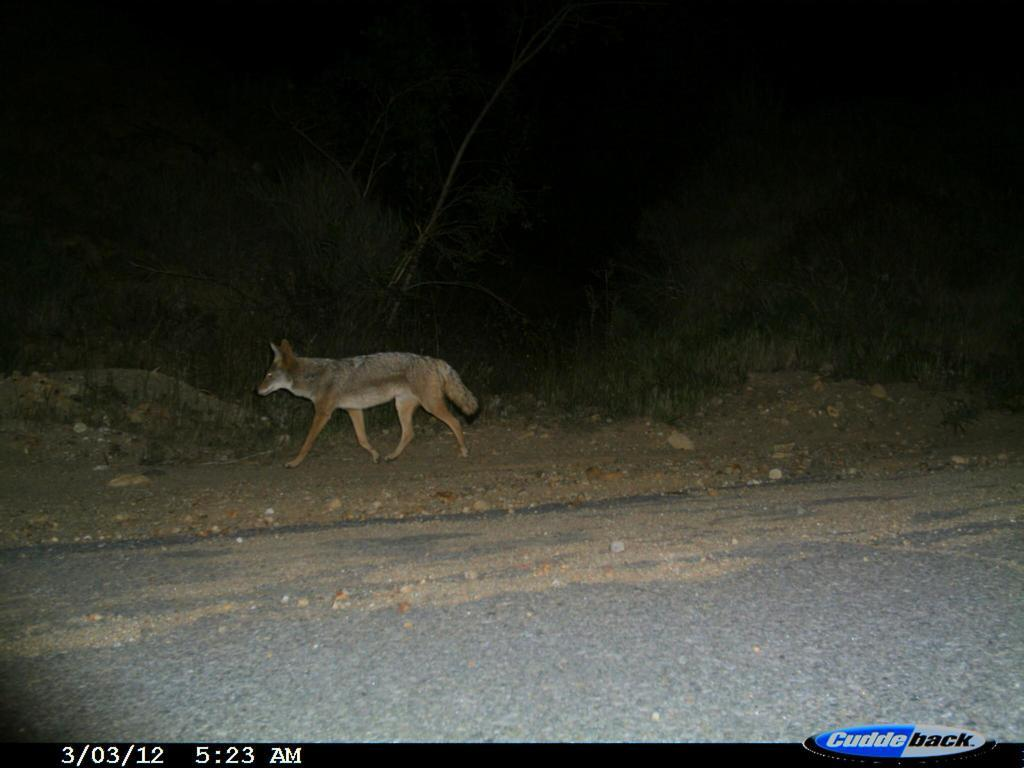coyote: (253, 337, 482, 472)
